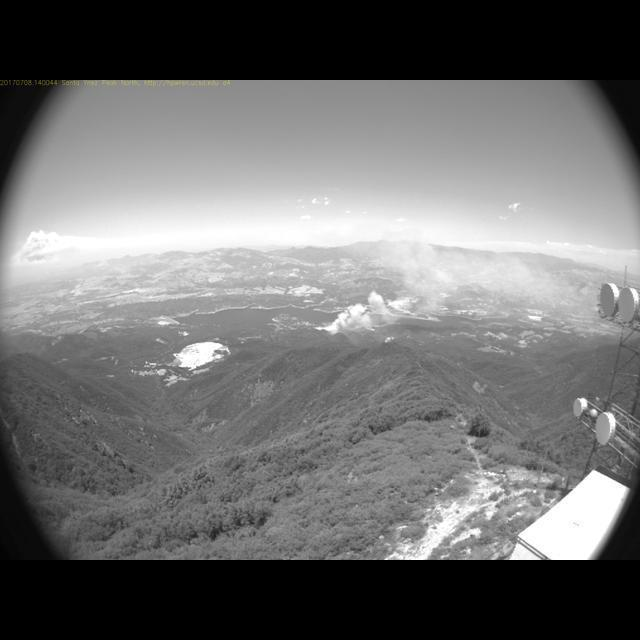Smoke: (311, 228, 515, 343)
